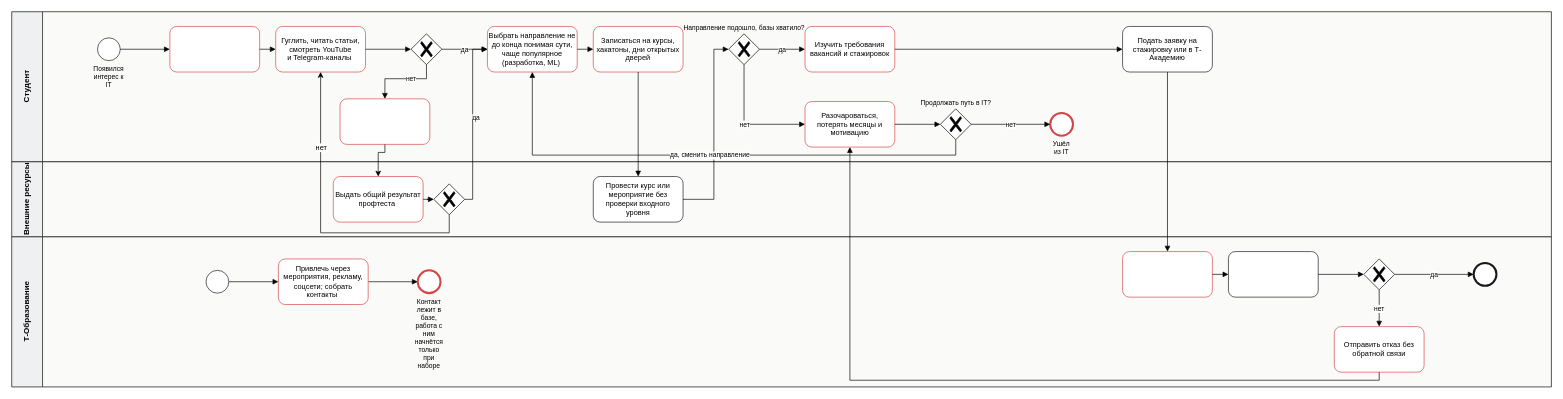
This 1563x399 diagram has some shape labels left out. The shapes that lost their labels are listed below. From the top down, each one's centre as x and y in pixels, then its label:
At (x=214, y=49): "Решить «хочу в IT», не понимая, чем различаются профессии".
At (x=426, y=49): "Понятно, что выбрать?".
At (x=384, y=121): "Найти профориентационный тест".
At (x=449, y=199): "Профтест помог?".
At (x=217, y=281): "Начало сезона мероприятий".
At (x=1167, y=274): "Принять заявки на стажировки и в Т-Академию".
At (x=1273, y=274): "Провести отбор: тестовые задания".
At (x=1379, y=274): "Прошёл отбор?".
At (x=1484, y=274): "Принят на стажировку".
